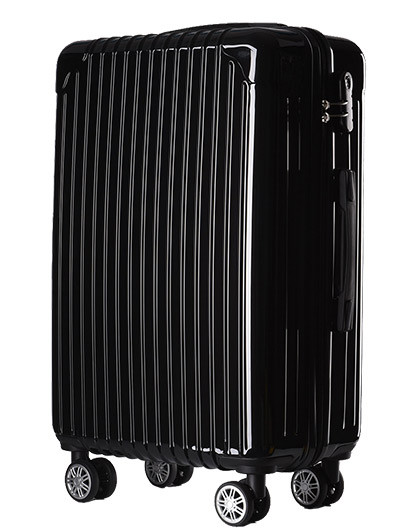box: (51, 33, 366, 473)
handle: (334, 166, 357, 333)
lock: (321, 69, 354, 135)
wheel: (214, 478, 271, 527), (291, 463, 344, 509), (65, 457, 117, 503), (144, 460, 194, 488)
